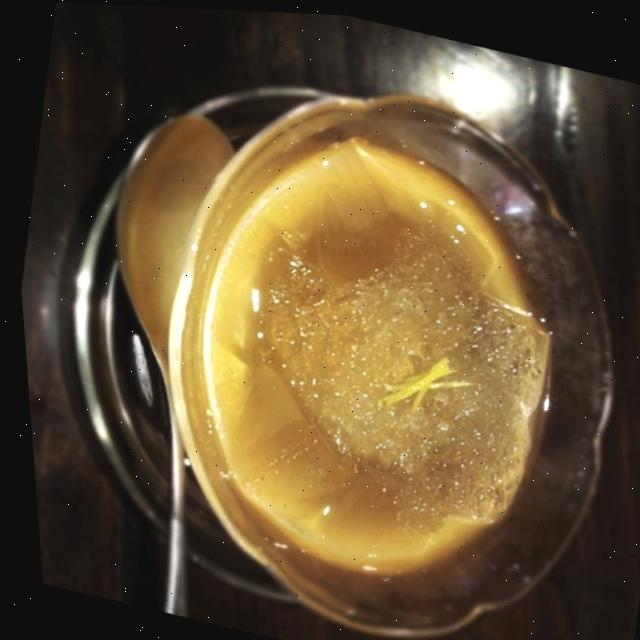蛋糕甜品: (1, 10, 640, 640)
